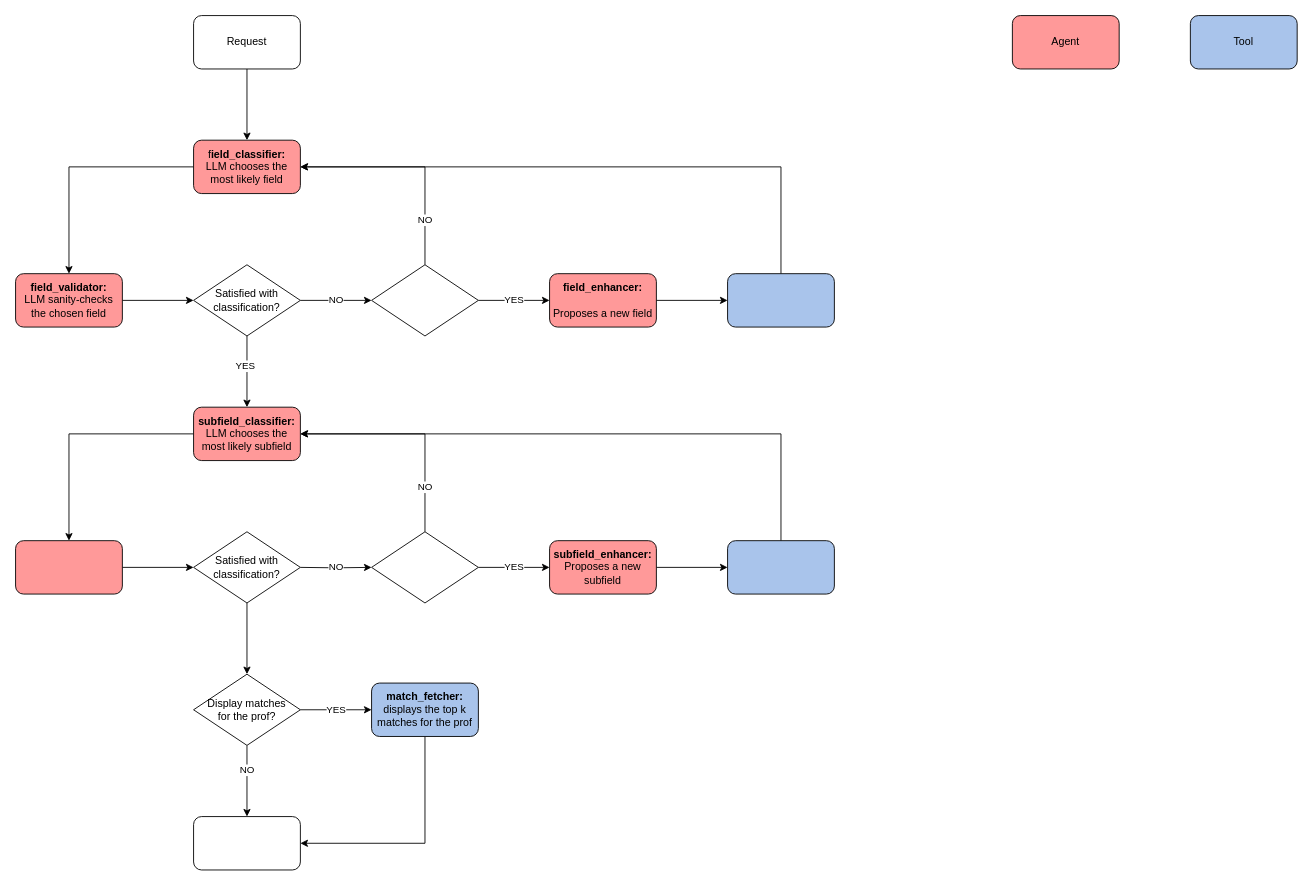
Image size: 1313x886. Some labels were removed from this diagram. Each missing label, with the centre of its shape:
"END" goes at [246,843].
"field_updater: Places the proposed field into a mapping" goes at [780,300].
"Need to add a new field?" goes at [424,300].
"Need to add a new subfield?" goes at [424,567].
"subfield_updater: Places the subfield into a mapping" goes at [780,567].
"subfield_validator: LLM sanity-checks the chosen subfield" goes at [68,567].
